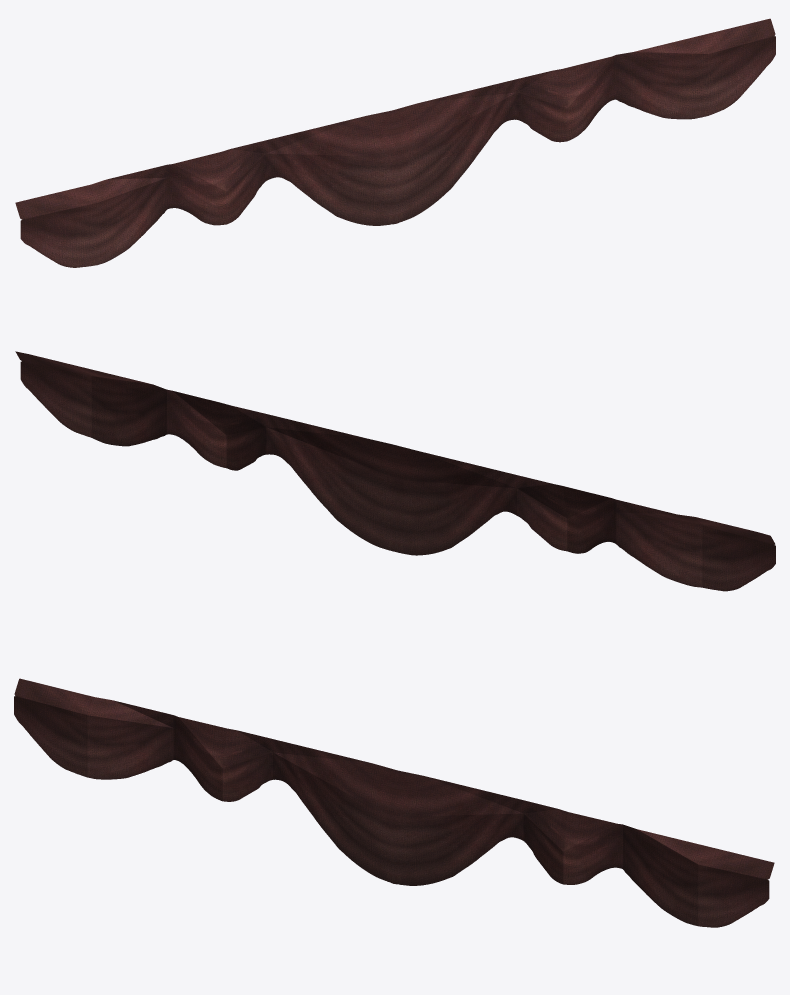
The model's file is bg_lut_lucastle_houseincurtain01_sm_ysi.FBX.
3 renders of one model, top to bottom at view 1: azimuth 30°, elevation 25°; view 2: azimuth 150°, elevation 25°; view 3: azimuth 330°, elevation 25°, orthographic.
Parts seen in each view (by area): view 1: bg_lut_lucastle_houseincurtain01_sm_ysi; view 2: bg_lut_lucastle_houseincurtain01_sm_ysi; view 3: bg_lut_lucastle_houseincurtain01_sm_ysi.
Boxes of the visible parts, left/top/right/bottom form: bg_lut_lucastle_houseincurtain01_sm_ysi: left=15, top=18, right=775, bottom=267; bg_lut_lucastle_houseincurtain01_sm_ysi: left=15, top=351, right=775, bottom=591; bg_lut_lucastle_houseincurtain01_sm_ysi: left=14, top=678, right=774, bottom=927.
Size of the model in its own units: 384 by 57.03 by 7.62.
